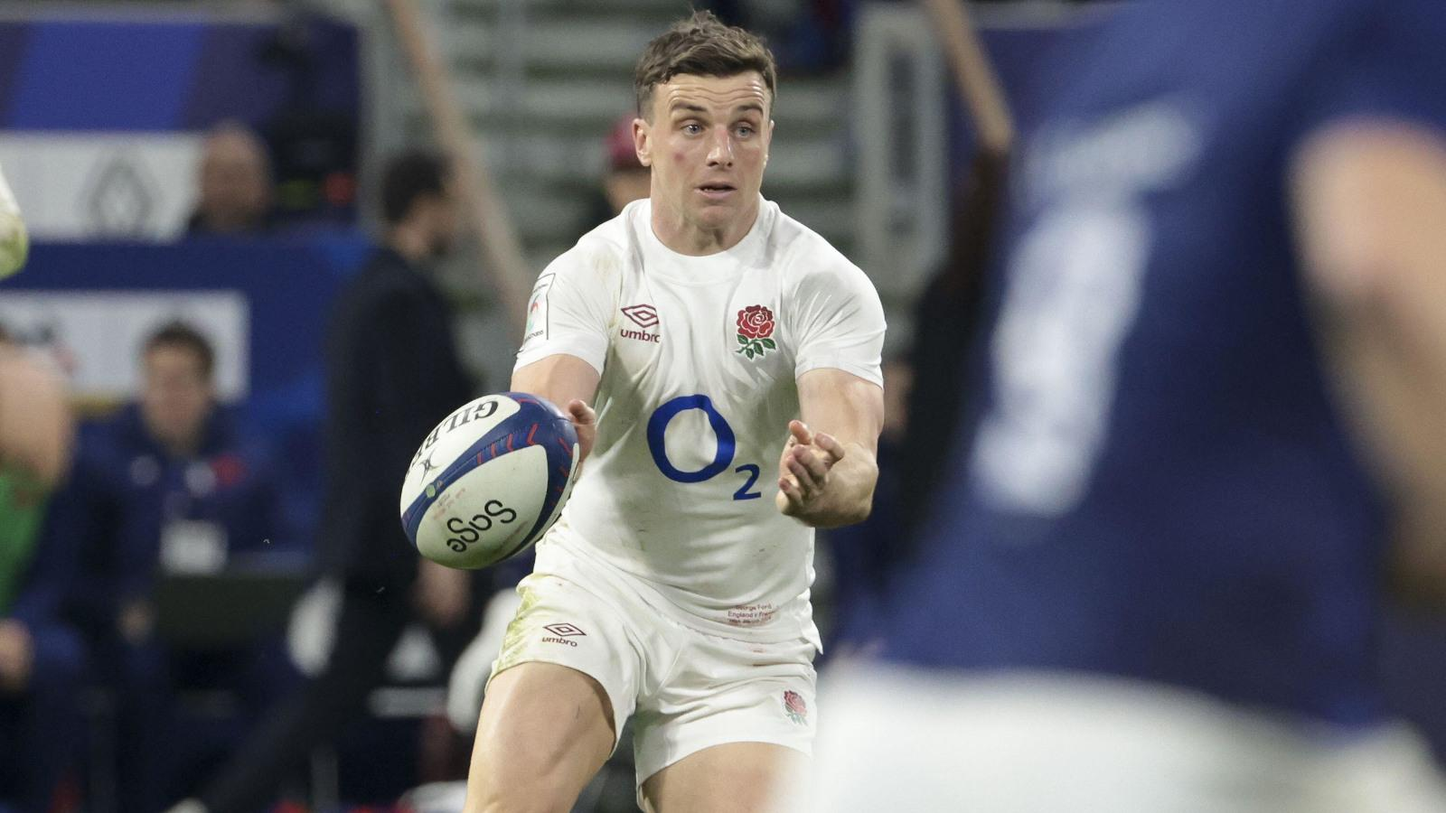ballon_rugby: (395, 383, 584, 576)
